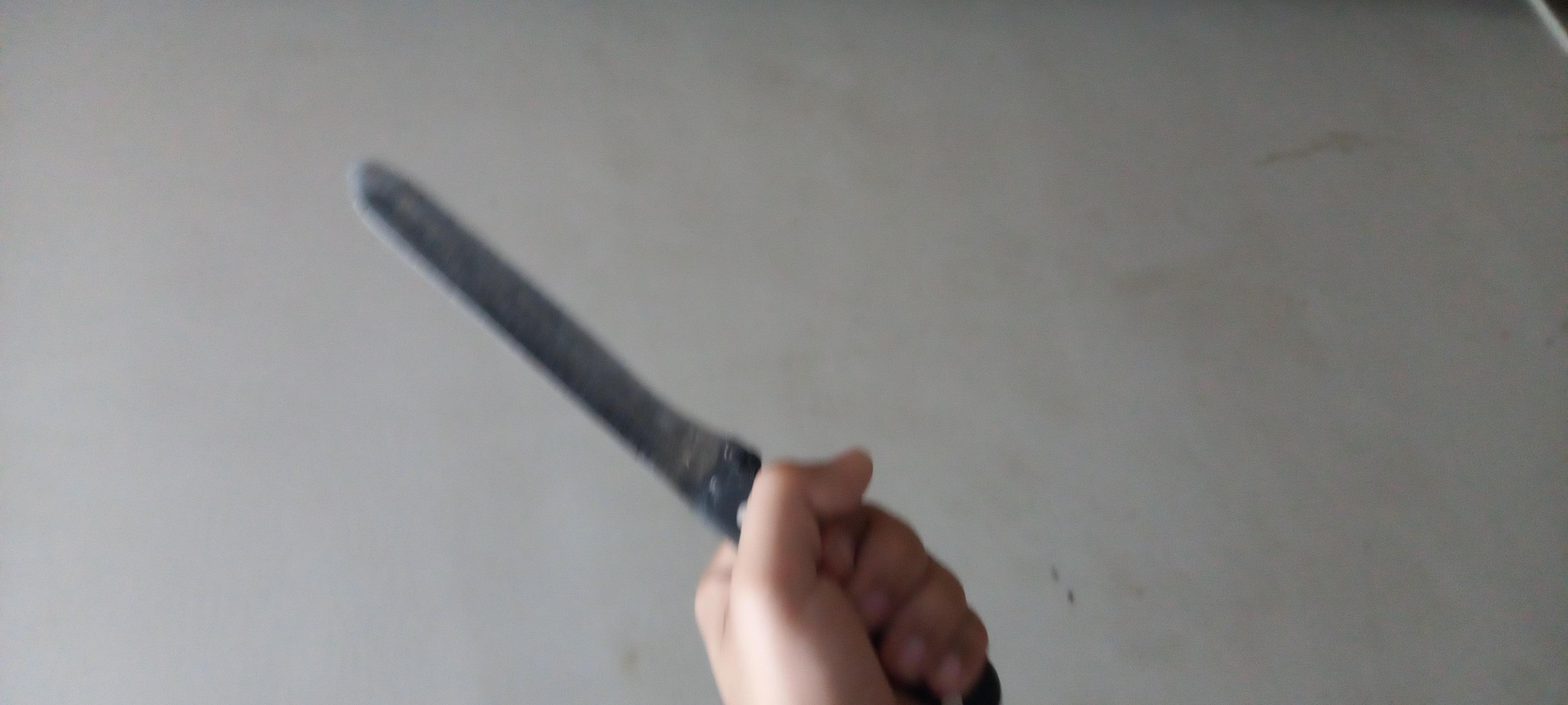knives: (1, 154, 1239, 457)
